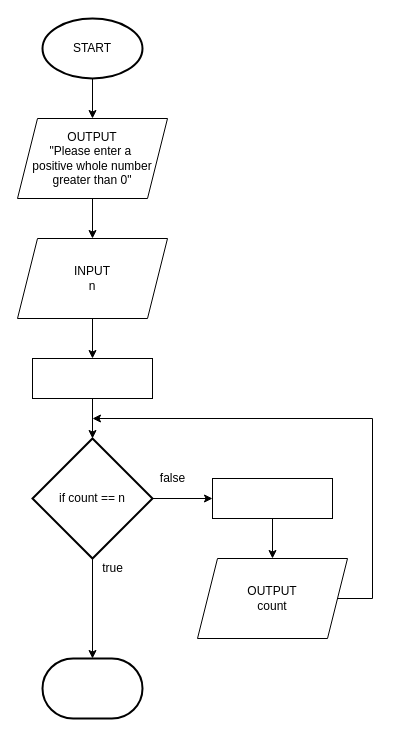
Some shapes in this 398 by 736 pixel diagram are drawn without their labels. The centre of each missing label's shape, as x and y in pixels:
count = 0: point 92,378
count = count + 1: point 272,498
STOP: point 92,688
